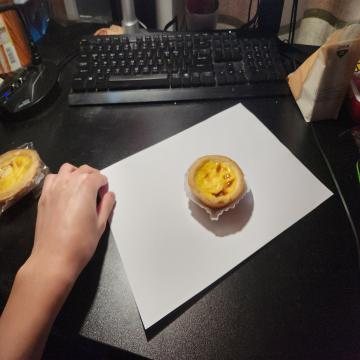EggTart: (189, 154, 245, 209)
